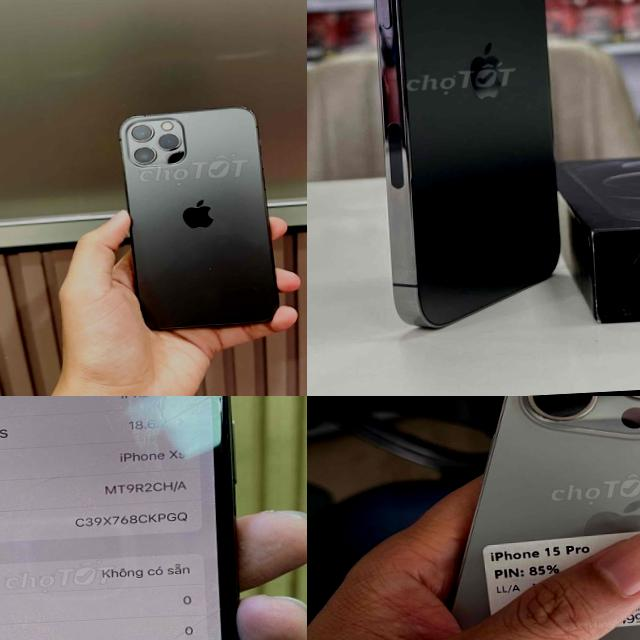gen_12_13: (333, 0, 570, 335), (118, 106, 282, 334)
gen_15: (391, 396, 640, 640)
gen_x_xs: (0, 396, 301, 640)
physical_damage: (0, 396, 261, 640)
scratch: (518, 396, 640, 435)
